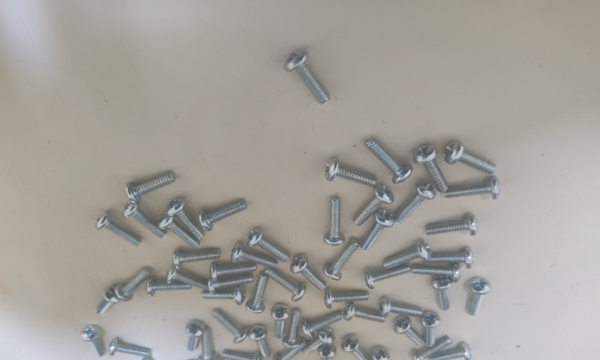shortscrew: (285, 51, 331, 106), (365, 137, 413, 184), (393, 181, 437, 224), (444, 140, 497, 175), (352, 184, 395, 227), (95, 211, 143, 248), (123, 200, 167, 239), (414, 144, 449, 193), (323, 239, 362, 281), (167, 198, 205, 241), (126, 172, 177, 204), (324, 157, 378, 187), (159, 212, 201, 249), (247, 228, 291, 263), (199, 200, 248, 231), (360, 209, 395, 252), (265, 267, 307, 302), (382, 240, 432, 269), (445, 175, 501, 200), (290, 254, 327, 291), (212, 308, 250, 344), (231, 241, 279, 268), (115, 267, 152, 302), (365, 263, 412, 290), (425, 213, 479, 236), (302, 310, 344, 339), (324, 196, 345, 248), (173, 248, 222, 270), (393, 315, 425, 348), (412, 262, 462, 283), (166, 267, 210, 290), (208, 273, 254, 295), (431, 247, 474, 270), (211, 261, 258, 282), (412, 336, 453, 360), (379, 297, 423, 319), (302, 327, 336, 355), (246, 271, 268, 314), (324, 289, 369, 309), (469, 277, 492, 316), (147, 279, 192, 298), (80, 324, 105, 358), (109, 338, 151, 358), (343, 303, 385, 323), (202, 287, 246, 306), (430, 341, 472, 360), (342, 334, 372, 360), (283, 310, 303, 349), (432, 275, 453, 311), (249, 325, 271, 359), (272, 340, 308, 360), (271, 303, 291, 339), (421, 312, 441, 347), (96, 287, 120, 316), (186, 320, 206, 352), (222, 349, 262, 360), (365, 346, 390, 360), (318, 344, 336, 360), (142, 356, 167, 360), (184, 359, 224, 360)
